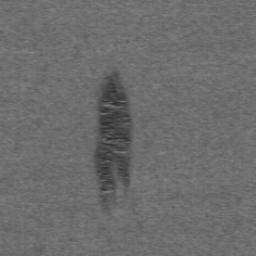Secondary rust skin: (94, 68, 132, 210)
